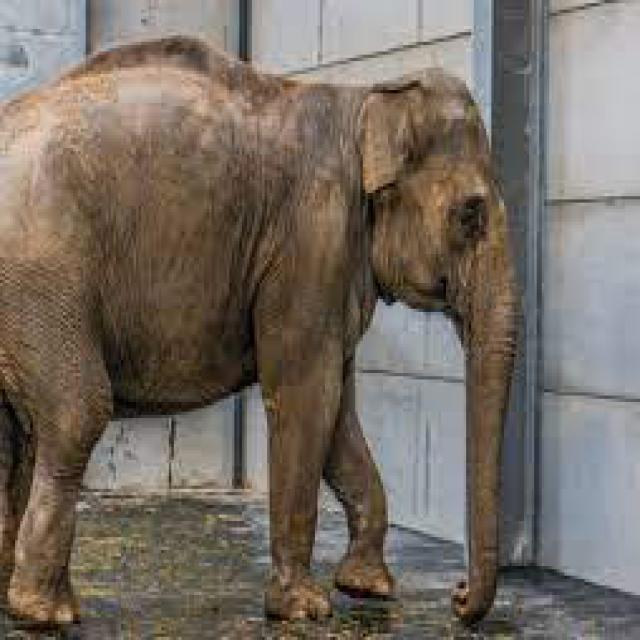Elephant: (4, 32, 545, 640)
